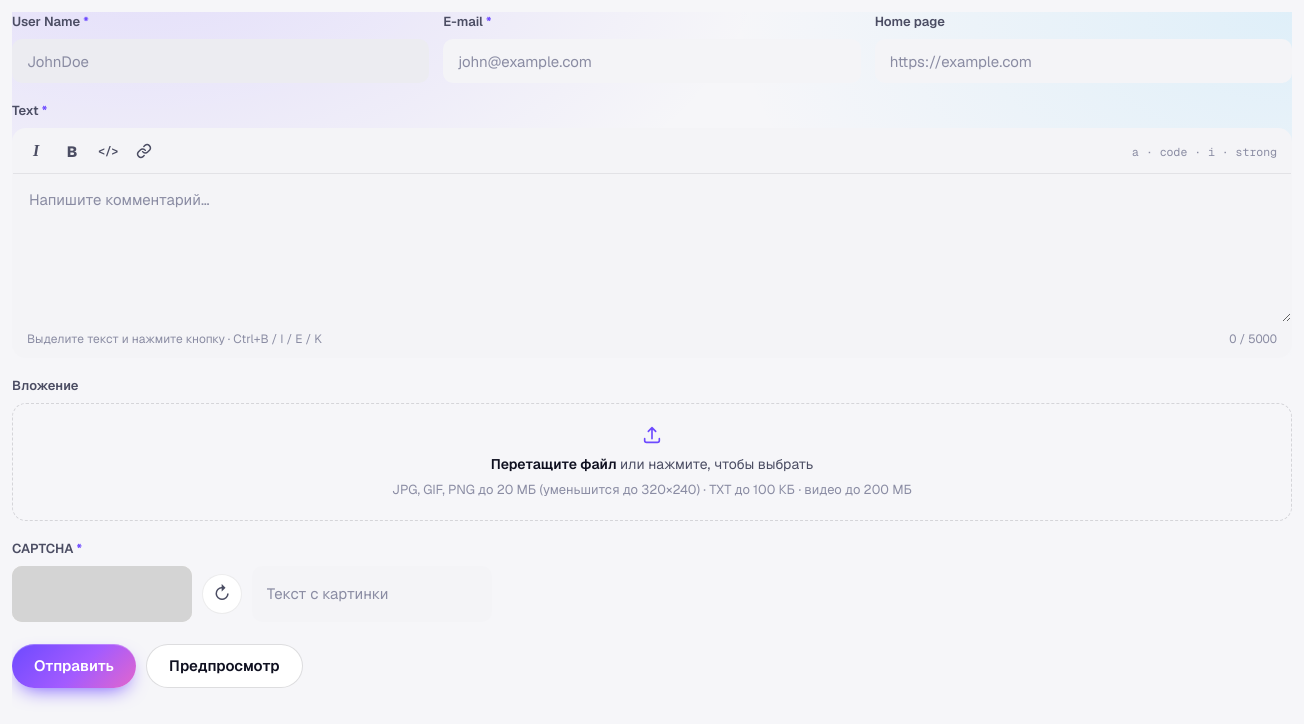
Test case: CommentForm › невалидные значения — понятные сообщения
Type "John Doe" into the field with placeholder "JohnDoe" at (221, 61), box top-left (12, 39), bottom-right (429, 83)
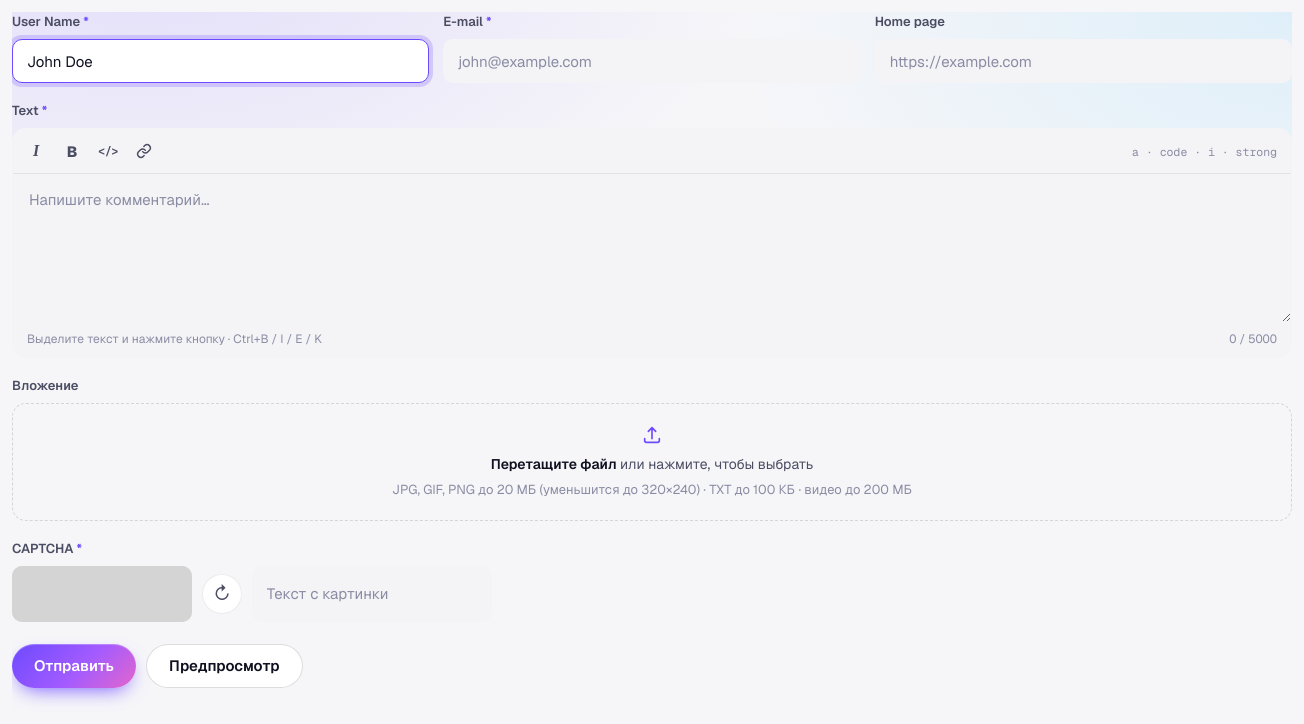
Type "bad" into the field with placeholder "john@example.com" at (652, 61), box top-left (443, 39), bottom-right (861, 83)
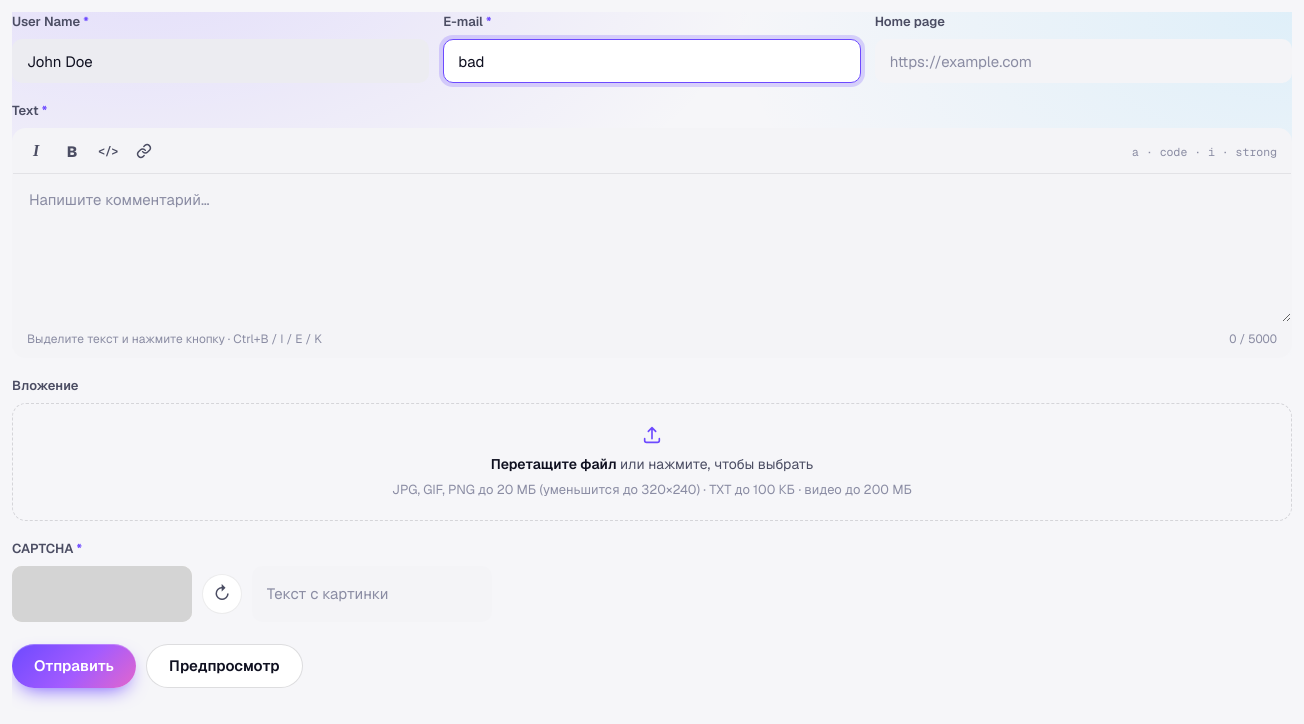
Type "ftp://x" into the field with placeholder "https://example.com" at (1083, 61), box top-left (875, 39), bottom-right (1292, 83)
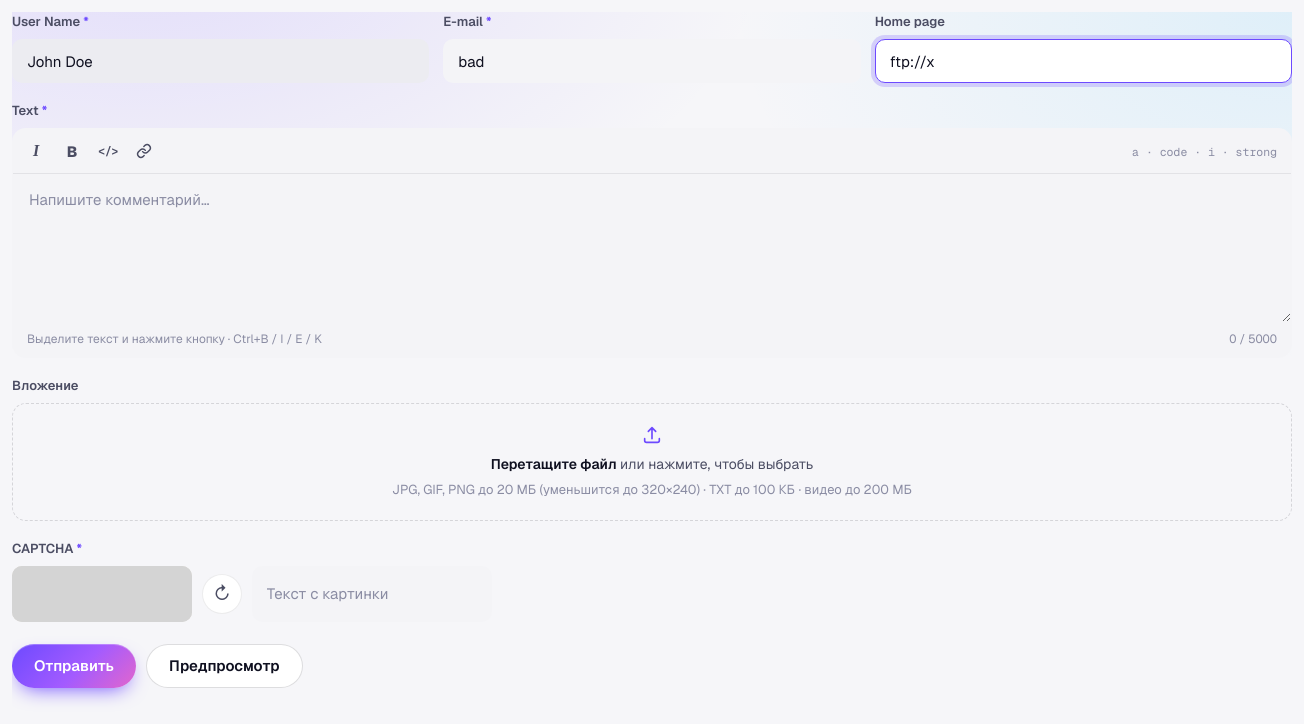
Type "<b>x</b>" into the text box labelled "Text *" at (652, 248), box top-left (13, 174), bottom-right (1291, 322)
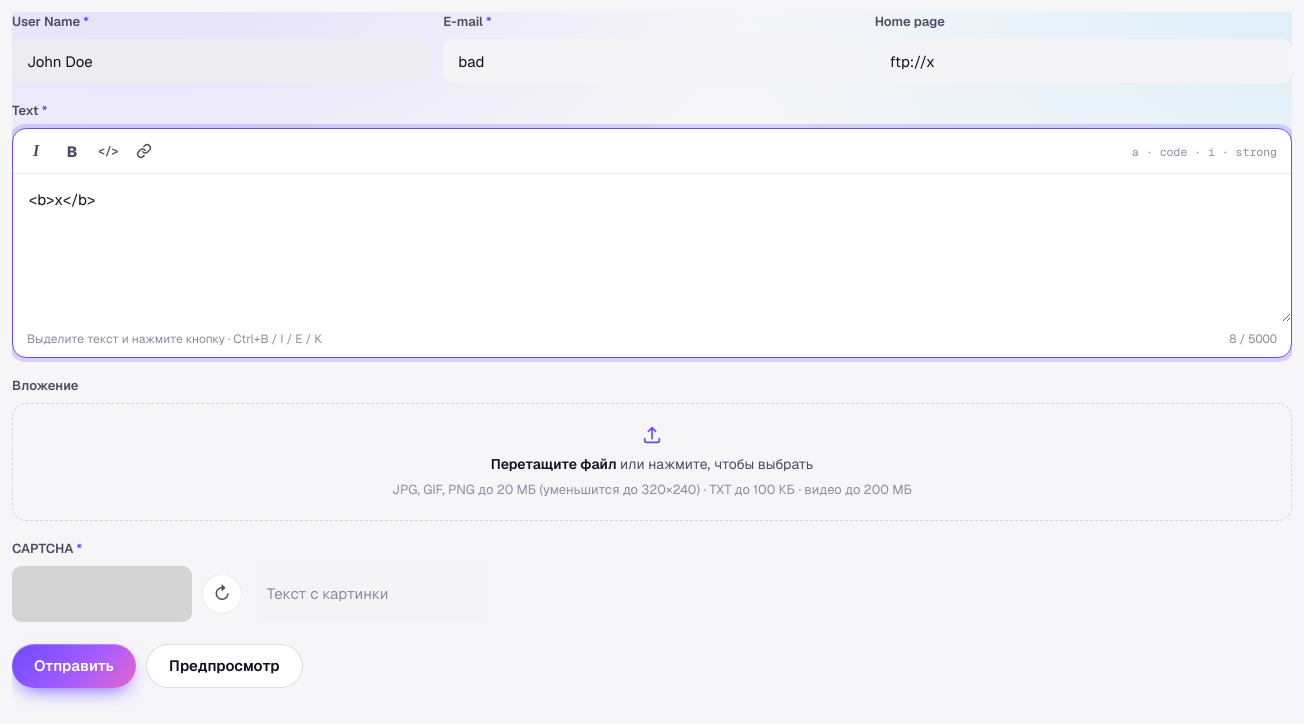
Type "аб" into the field with placeholder "Текст с картинки" at (372, 594), box top-left (252, 566), bottom-right (492, 622)
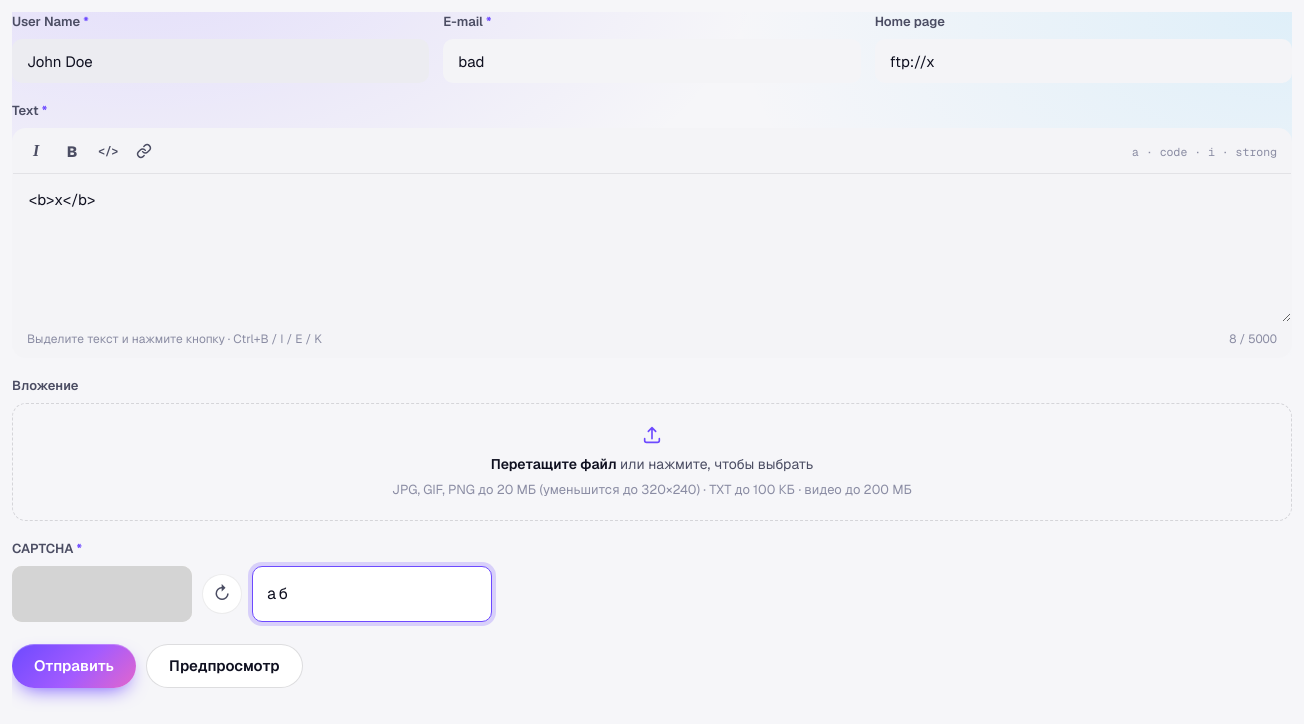
Click the button "Отправить" at (74, 666), box top-left (12, 644), bottom-right (136, 688)
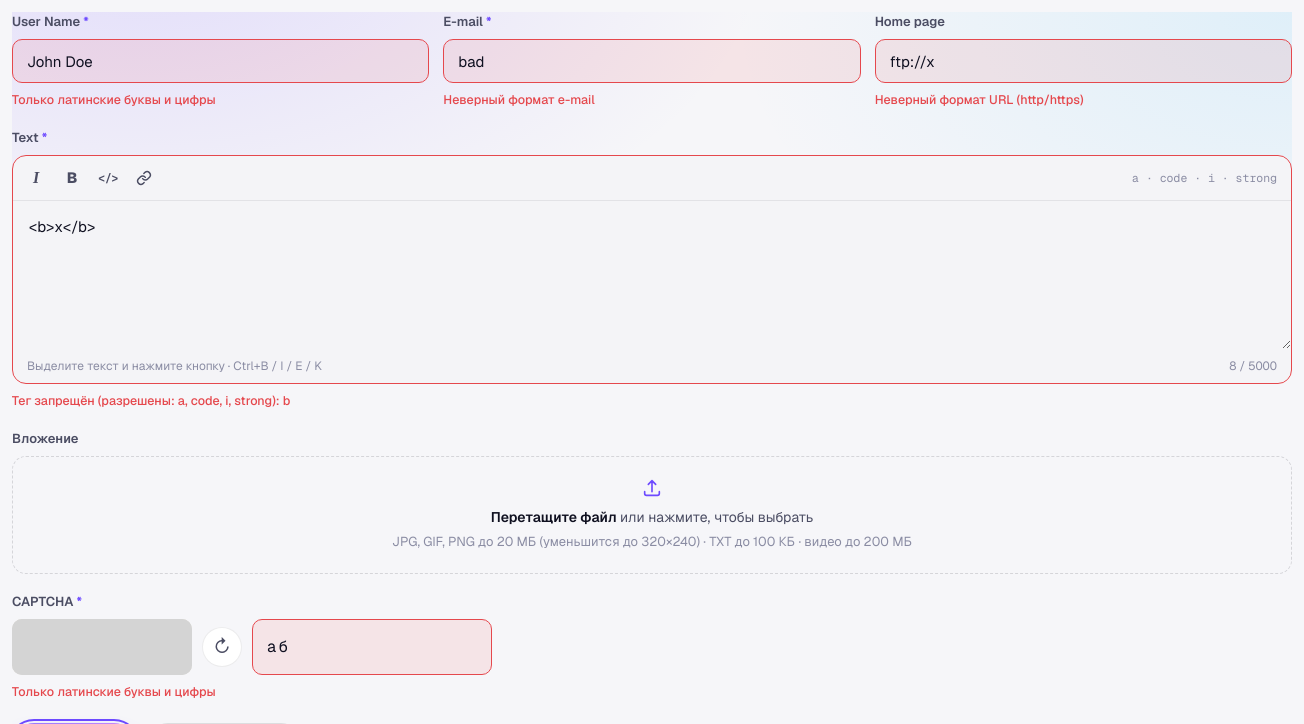
Check: the text "Только латинские буквы и цифры" is shown 2 times, box top-left (12, 91), bottom-right (216, 108); top-left (12, 683), bottom-right (216, 700)
Check: the text "Неверный формат e-mail" is shown, box top-left (443, 91), bottom-right (595, 108)
Check: the text "Неверный формат URL (http/https)" is shown, box top-left (875, 91), bottom-right (1084, 108)
